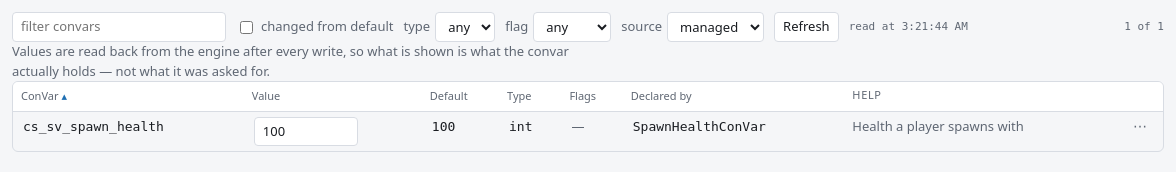
Scenario: writing › shows the value the engine read back, not the one that was sent
This screenshot has width=1176, height=172.
Check: the text "cs_sv_spawn_health" is shown, box 13,111 -> 244,151
Replace the text in the number field showing "100" with "9999" at (306, 131), box 254,116 -> 358,146
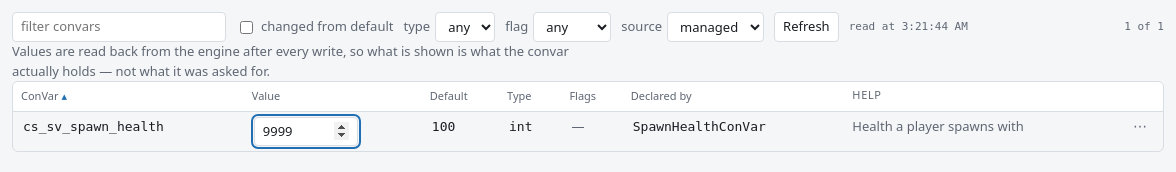
Press Tab
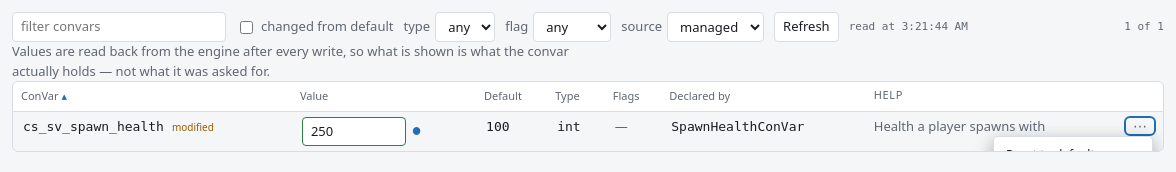
Check: the number field showing "250" is shown, box 302,116 -> 406,146
